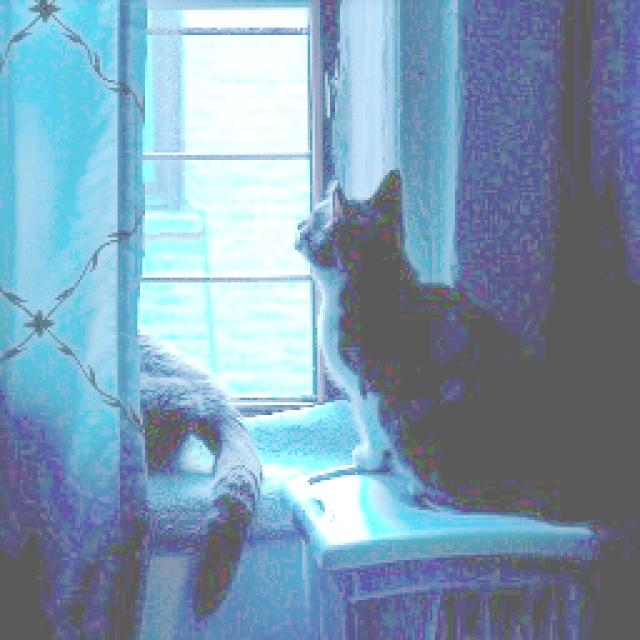cat: (277, 156, 626, 535)
